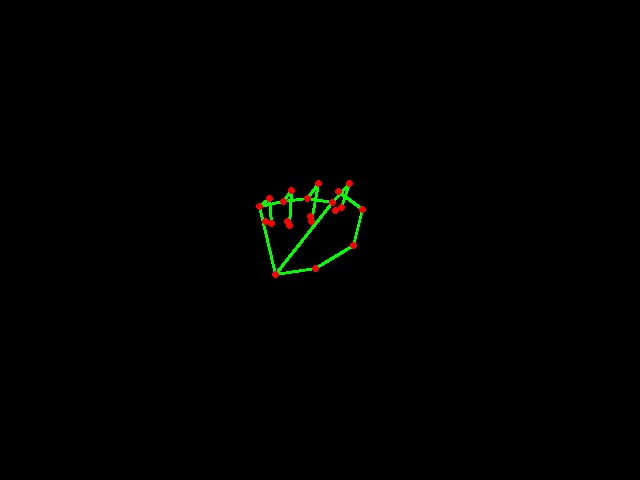back: (249, 171, 378, 290)
